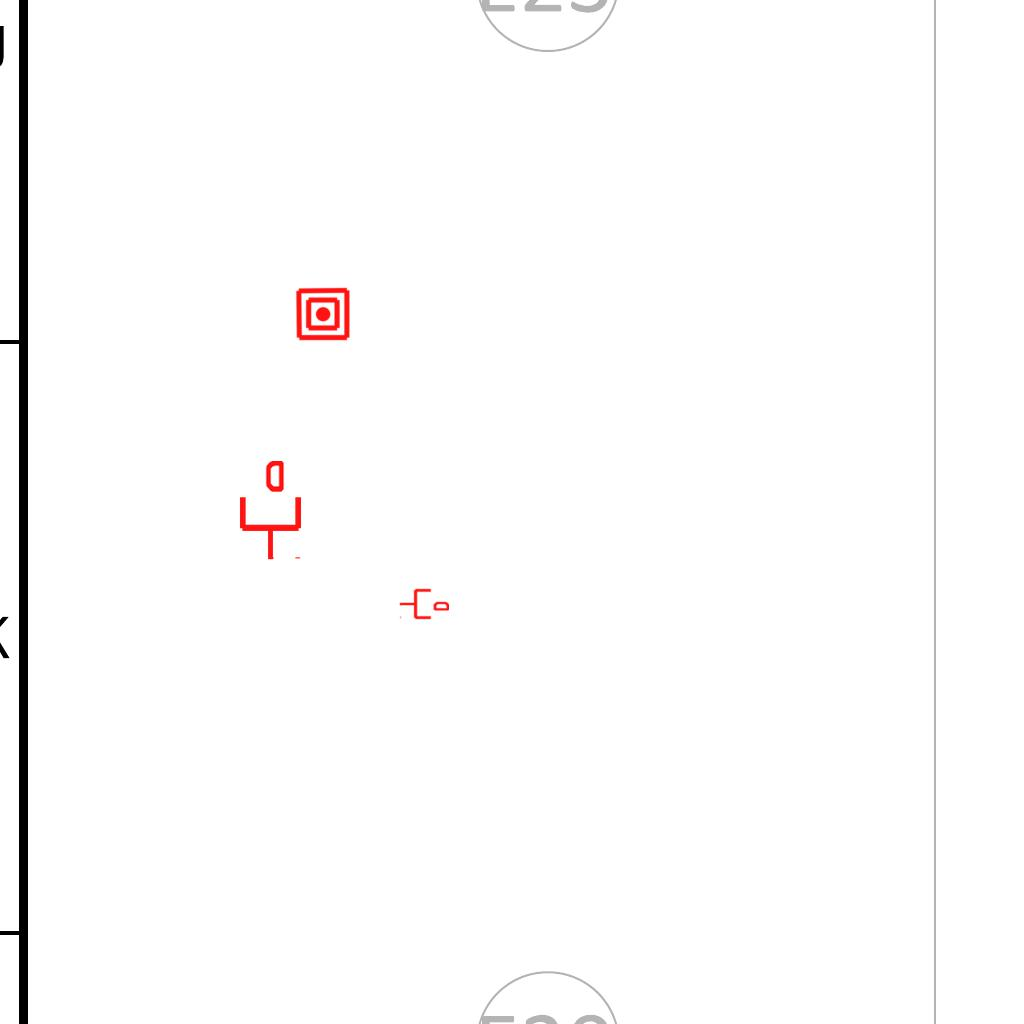Datenanschluss_einfach: (236, 461, 305, 561), (399, 587, 449, 621)
NAM-Nichtautomatischer_Melder: (295, 286, 351, 342)
